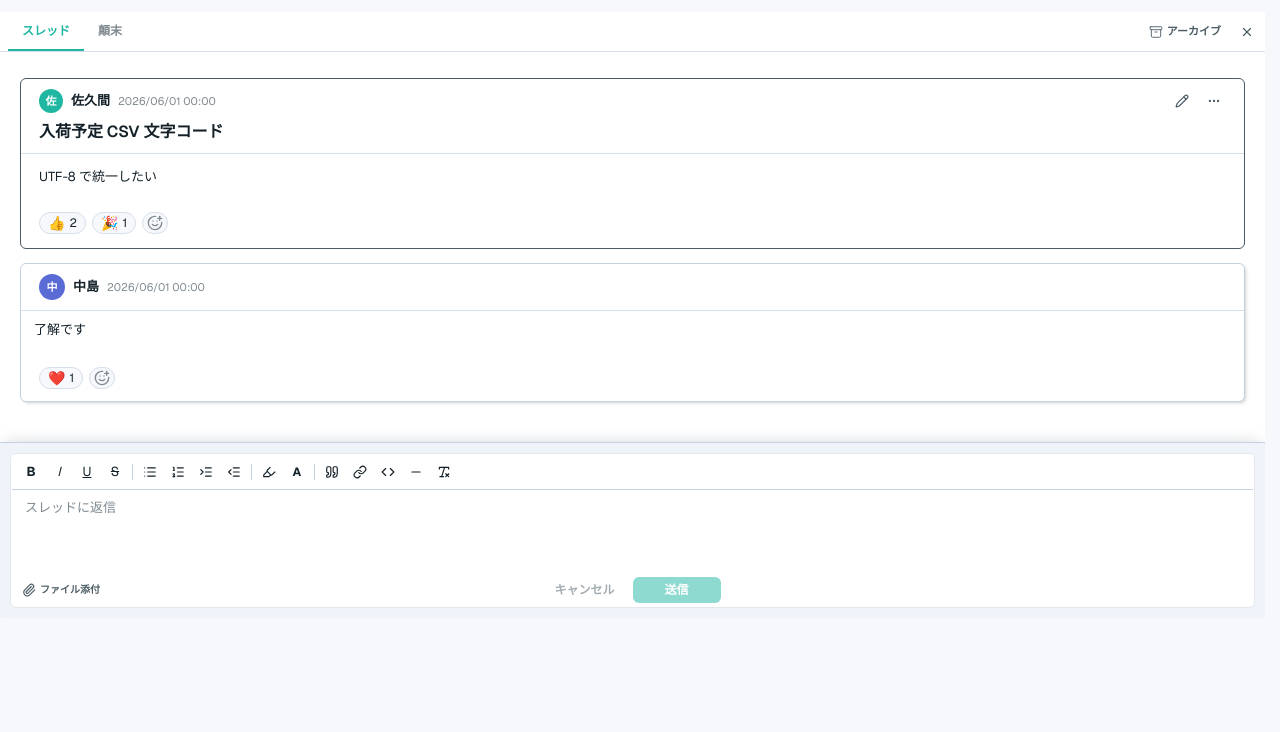
Test: ChatThread — スレッド/顛末 タブ strip（rete-desk-0039/0040 退行回帰） › スレッドタブが初期アクティブで、顛末タブクリックで切替わる
Click the tab "顛末" at {"x": 110, "y": 32}, box [84,12,136,51]
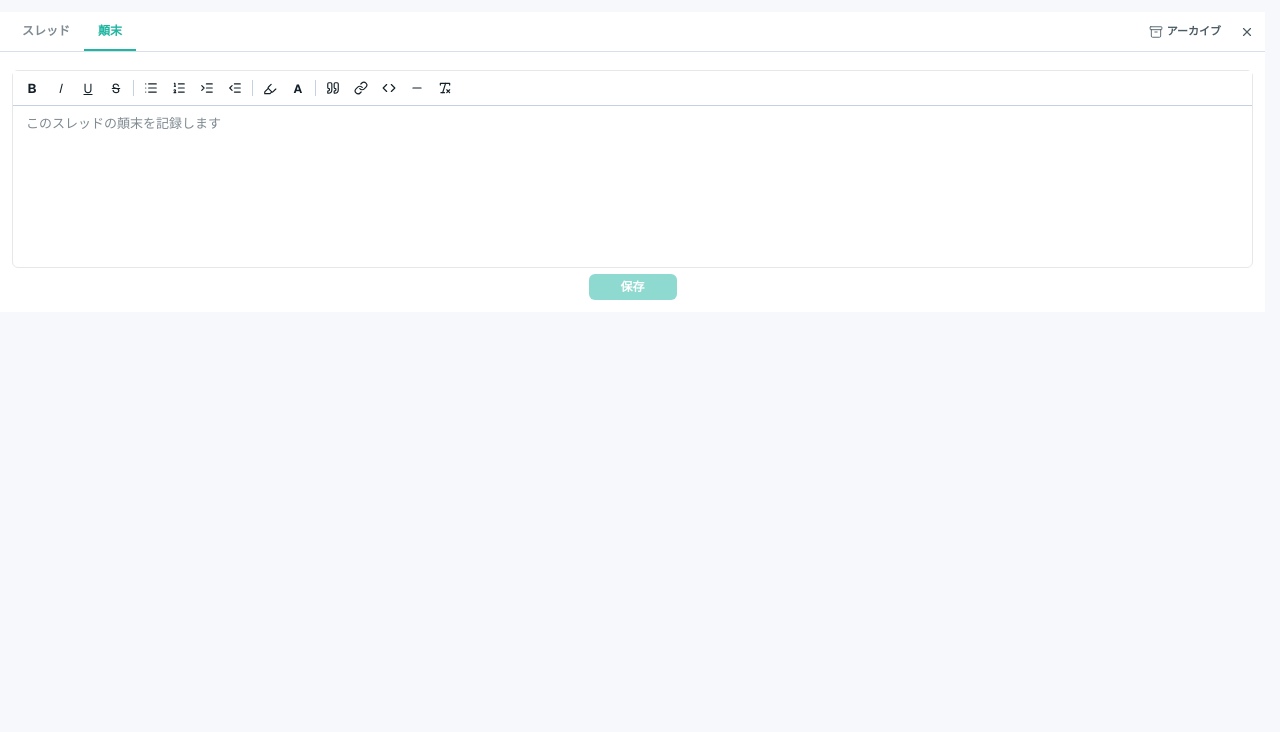
Result: the field named "顛末" is shown at [14,107,1251,266]
